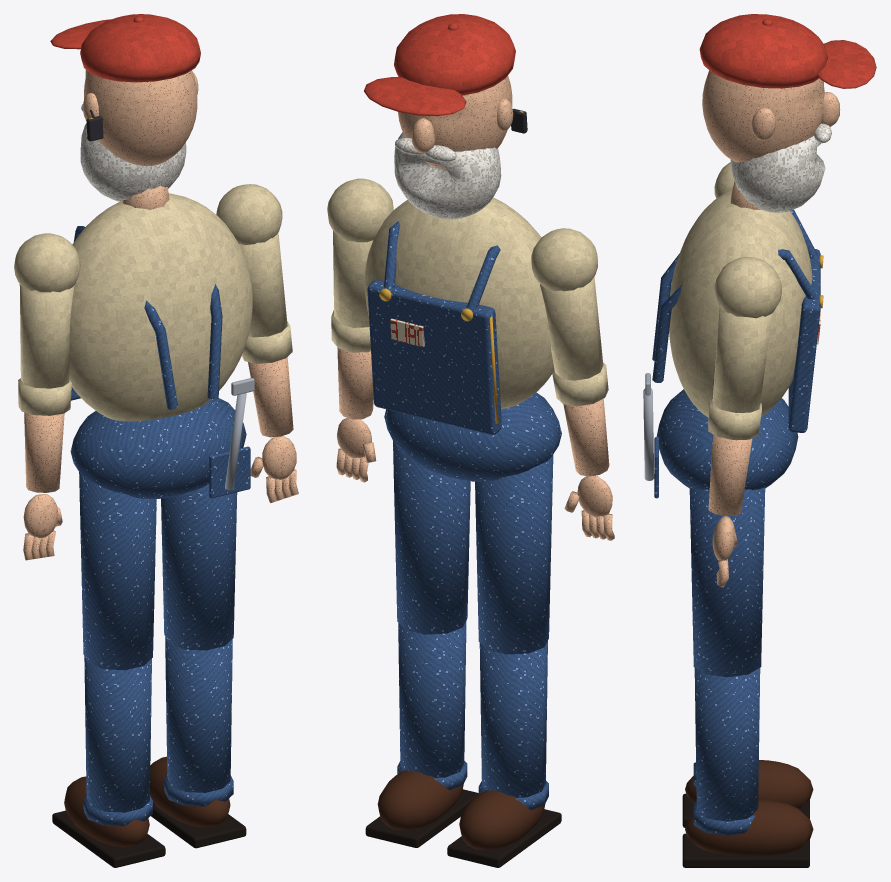
Rendered from c_dale.glb.
3 renders of one model, left to right at view 1: azimuth 30°, elevation 25°; view 2: azimuth 150°, elevation 25°; view 3: azimuth 270°, elevation 25°, orthographic.
Parts seen in each view (by area): view 1: part_spine, part_head, part_kneeL, part_body, part_kneeR, part_legL, part_legR, part_armL, part_arm, part_foreL, part_foreR, part_handR (+1 smaller); view 2: part_spine, part_head, part_kneeL, part_kneeR, part_legL, part_legR, part_body, part_armL, part_arm, part_foreL, part_foreR, part_handL (+1 smaller); view 3: part_head, part_spine, part_kneeR, part_legR, part_body, part_arm, part_foreR, part_kneeL, part_handR, part_armL.
Boxes of the visible parts, <box> form: part_spine: <box>69,185,252,421</box>; part_head: <box>50,14,200,201</box>; part_kneeL: <box>52,656,165,867</box>; part_body: <box>70,378,254,498</box>; part_kneeR: <box>150,637,246,848</box>; part_legL: <box>79,472,156,670</box>; part_legR: <box>161,484,237,650</box>; part_armL: <box>14,233,80,388</box>; part_arm: <box>216,184,287,337</box>; part_foreL: <box>18,378,71,492</box>; part_foreR: <box>241,321,293,437</box>; part_handR: <box>250,436,298,503</box>; part_spine: <box>364,197,554,434</box>; part_head: <box>364,14,527,219</box>; part_kneeL: <box>447,641,561,867</box>; part_kneeR: <box>365,620,478,847</box>; part_legL: <box>475,455,553,654</box>; part_legR: <box>393,441,470,634</box>; part_body: <box>384,392,561,481</box>; part_armL: <box>531,228,603,380</box>; part_arm: <box>327,178,393,327</box>; part_foreL: <box>552,362,609,476</box>; part_foreR: <box>331,310,373,419</box>; part_handL: <box>564,475,614,540</box>; part_head: <box>699,14,876,212</box>; part_spine: <box>652,181,823,432</box>; part_kneeR: <box>682,668,813,867</box>; part_legR: <box>689,487,765,677</box>; part_body: <box>643,373,798,498</box>; part_arm: <box>712,257,781,412</box>; part_foreR: <box>708,398,761,515</box>; part_kneeL: <box>682,760,813,827</box>; part_handR: <box>712,516,738,587</box>; part_armL: <box>714,162,734,198</box>.
Size of the model in its own units: 0.6773 by 1.91 by 0.4937.
Materials: 12 (6 with a texture image).
